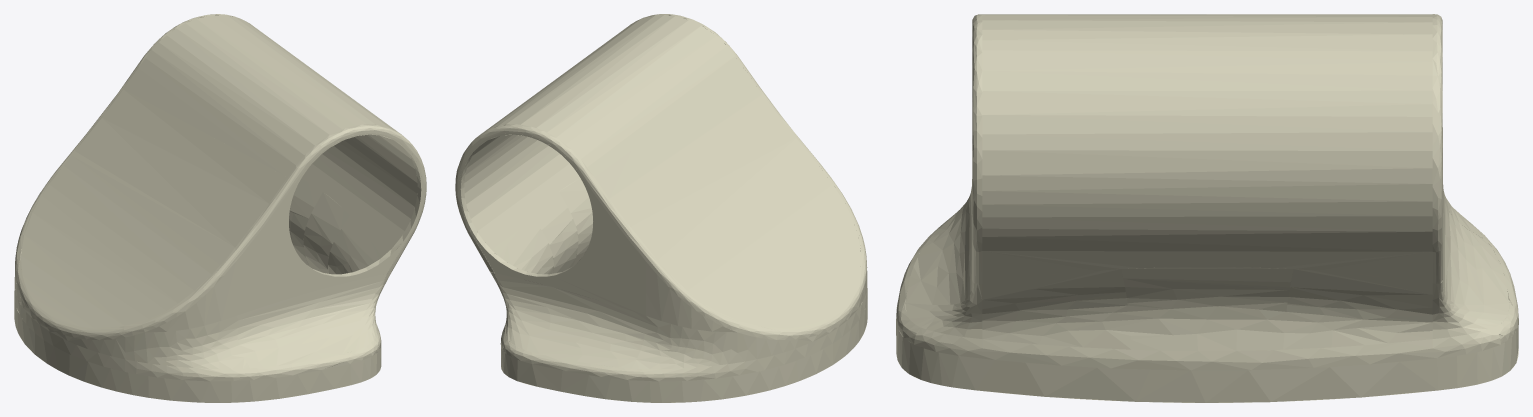
Rendered from head_pan.dae.
The picture shows the model from 3 angles, left to right: view 1: azimuth 30°, elevation 25°; view 2: azimuth 150°, elevation 25°; view 3: azimuth 270°, elevation 25°; orthographic projection. The views are drawn at different scales.
Visible parts, largest first — view 1: Head_Pan; view 2: Head_Pan; view 3: Head_Pan.
Part boxes in pixels (<box>): Head_Pan: <box>14,14,426,402</box>; Head_Pan: <box>455,14,867,402</box>; Head_Pan: <box>896,14,1518,402</box>.
Size of the model in its own units: 0.105 by 0.1218 by 0.075.
Materials: 1 (1 with a texture image).
